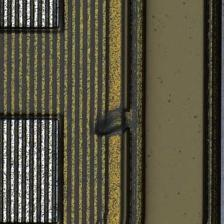BLOCK ETCH: (89, 96, 141, 148)
